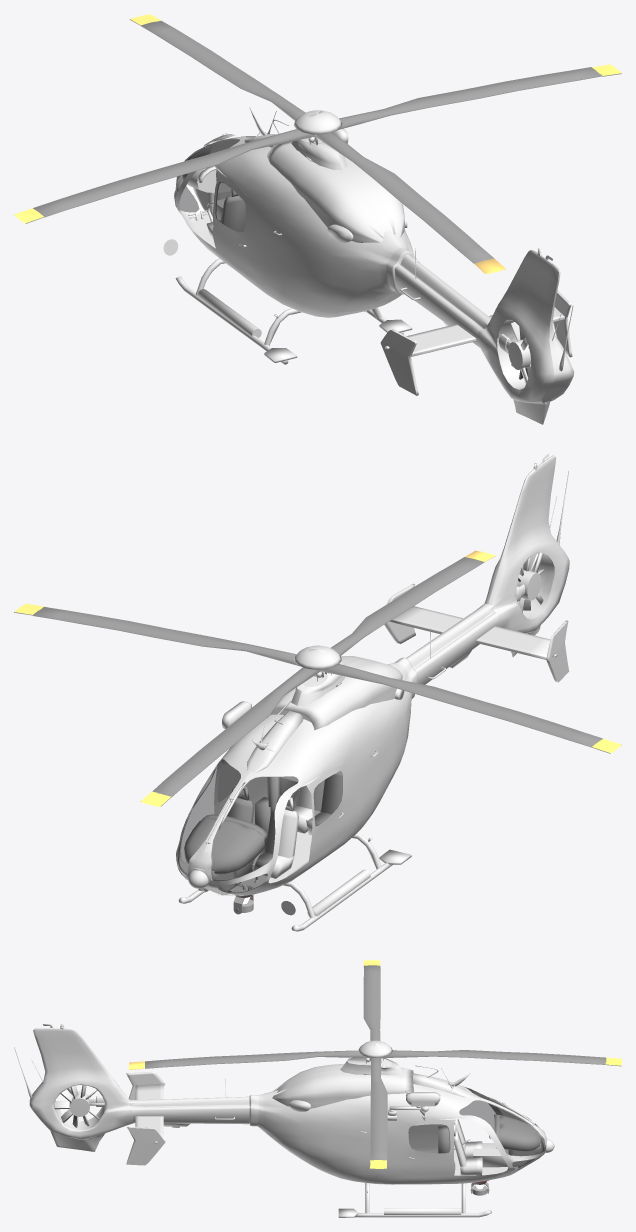
The model's file is searchlightHelicopter.gltf.
The picture shows the model from 3 angles, top to bottom: view 1: azimuth 30°, elevation 25°; view 2: azimuth 150°, elevation 25°; view 3: azimuth 270°, elevation 25°; orthographic projection. The views are drawn at different scales.
Parts seen in each view (by area): view 1: chassis, mainRotor; view 2: chassis, mainRotor; view 3: chassis, mainRotor.
Boxes of the visible parts, box(x1,y1,x2,y2) form: chassis: box(163, 107, 574, 424); mainRotor: box(14, 14, 621, 274); chassis: box(176, 453, 569, 931); mainRotor: box(14, 550, 621, 806); chassis: box(14, 1024, 554, 1217); mainRotor: box(129, 960, 621, 1168).
Bounding box in the file's own units: 10.17 × 3.95 × 12.57.
Materials: 15 (2 with a texture image).
